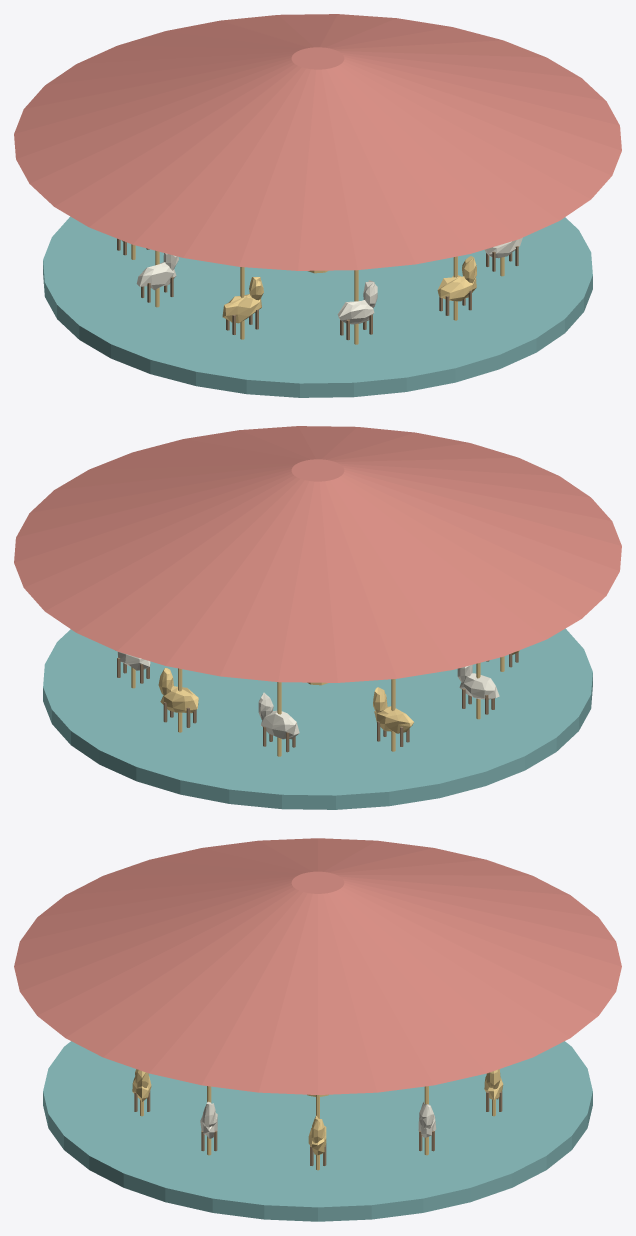
3 renders of one model, top to bottom at view 1: azimuth 30°, elevation 25°; view 2: azimuth 150°, elevation 25°; view 3: azimuth 270°, elevation 25°, orthographic.
Bounding box in the file's own units: 23 × 9.3 × 23.
